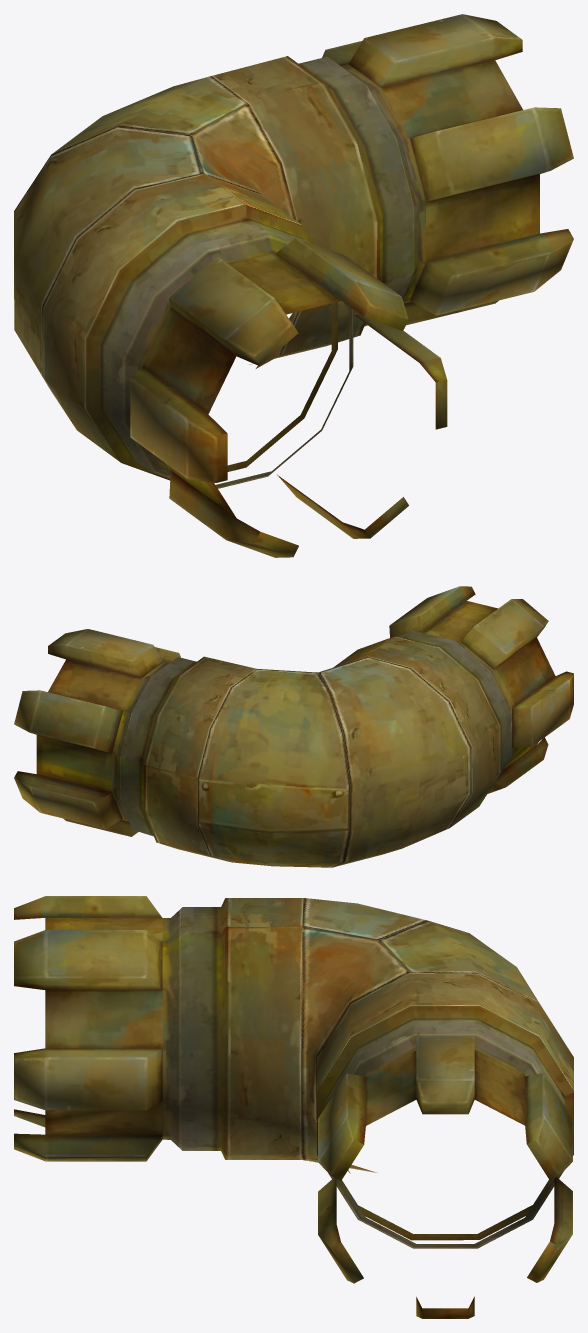
The model's file is hut_item_pipe_90.glb.
3 renders of one model, top to bottom at view 1: azimuth 30°, elevation 25°; view 2: azimuth 150°, elevation 25°; view 3: azimuth 270°, elevation 25°, orthographic. The views are drawn at different scales.
Visible parts, largest first — view 1: hut_item_pipe_90; view 2: hut_item_pipe_90; view 3: hut_item_pipe_90.
Part boxes in pixels (x1=…): hut_item_pipe_90: x1=14, y1=14, x2=573, y2=557; hut_item_pipe_90: x1=14, y1=586, x2=573, y2=867; hut_item_pipe_90: x1=14, y1=896, x2=573, y2=1318.
Bounding box in the file's own units: 0.6129 × 0.2841 × 0.6104.
1 material, 1 textured.
